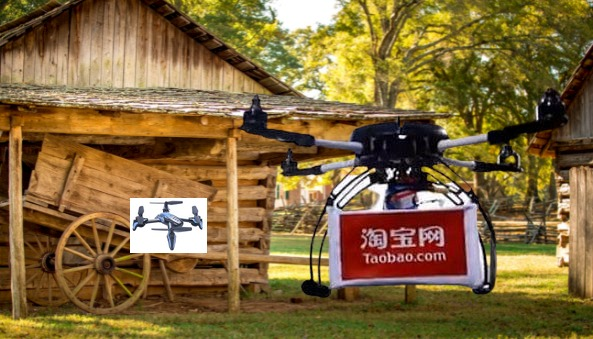drone: (237, 88, 569, 297), (130, 198, 207, 253)
